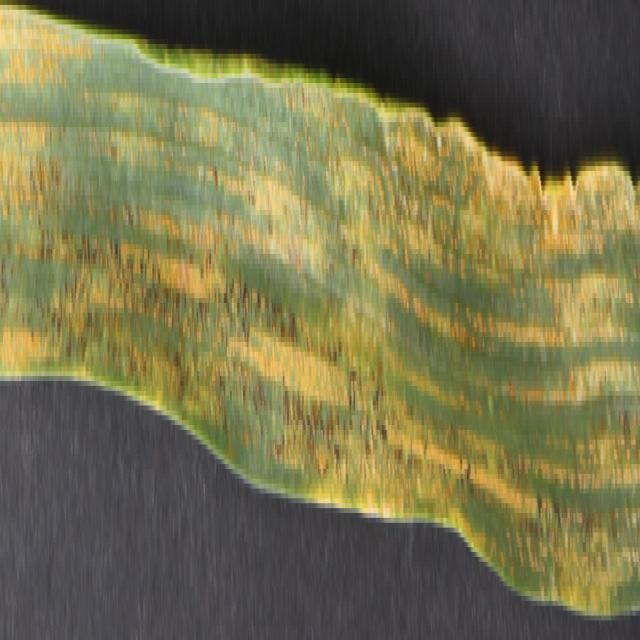leaf rust: (1, 15, 637, 581)
